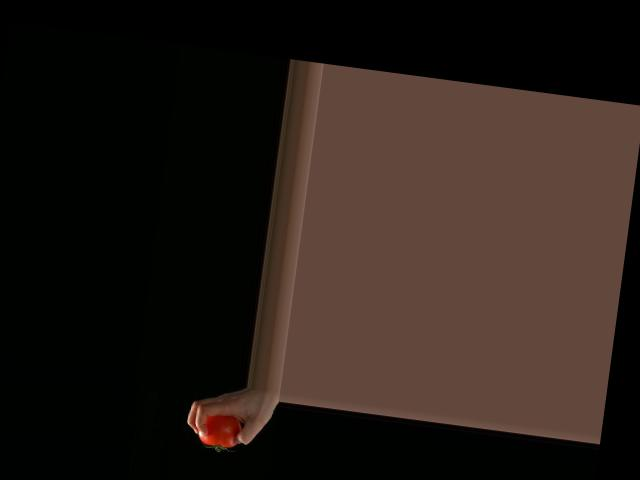tomato: (197, 413, 243, 453)
